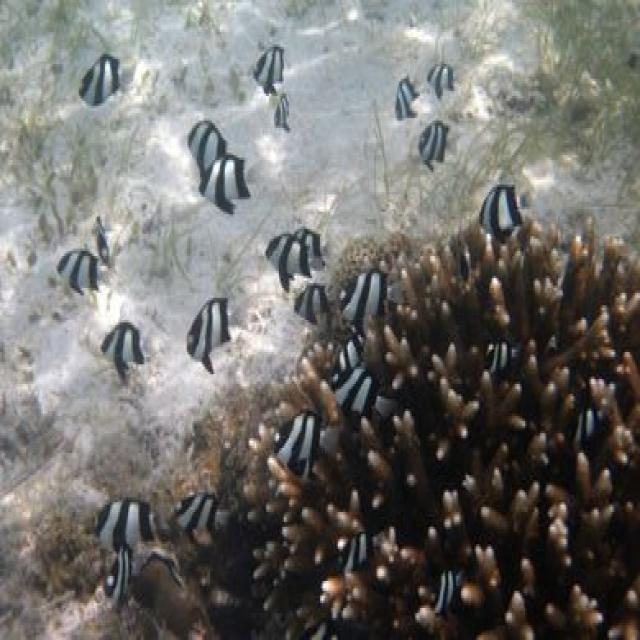Three_striped DasmselFish: (276, 410, 342, 483), (182, 296, 233, 377), (338, 269, 407, 327), (95, 496, 162, 550), (330, 363, 398, 415), (96, 320, 151, 382), (264, 231, 314, 292), (479, 183, 532, 238), (196, 157, 248, 213), (77, 53, 123, 106), (174, 491, 229, 533), (182, 120, 227, 168), (55, 250, 101, 296), (100, 547, 134, 607), (326, 331, 368, 372), (418, 117, 448, 173), (250, 41, 289, 83), (338, 531, 381, 567), (431, 570, 463, 618), (294, 283, 332, 322), (392, 73, 422, 121), (299, 223, 329, 270), (485, 337, 519, 372), (574, 402, 602, 444), (427, 63, 457, 99), (269, 96, 294, 130)
